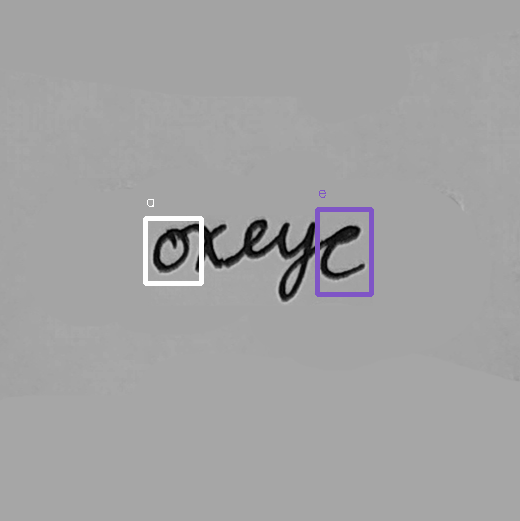e: (318, 221, 369, 281), (238, 215, 270, 262)
o: (149, 225, 192, 273)
x: (191, 217, 231, 276)
y: (272, 217, 318, 303)
